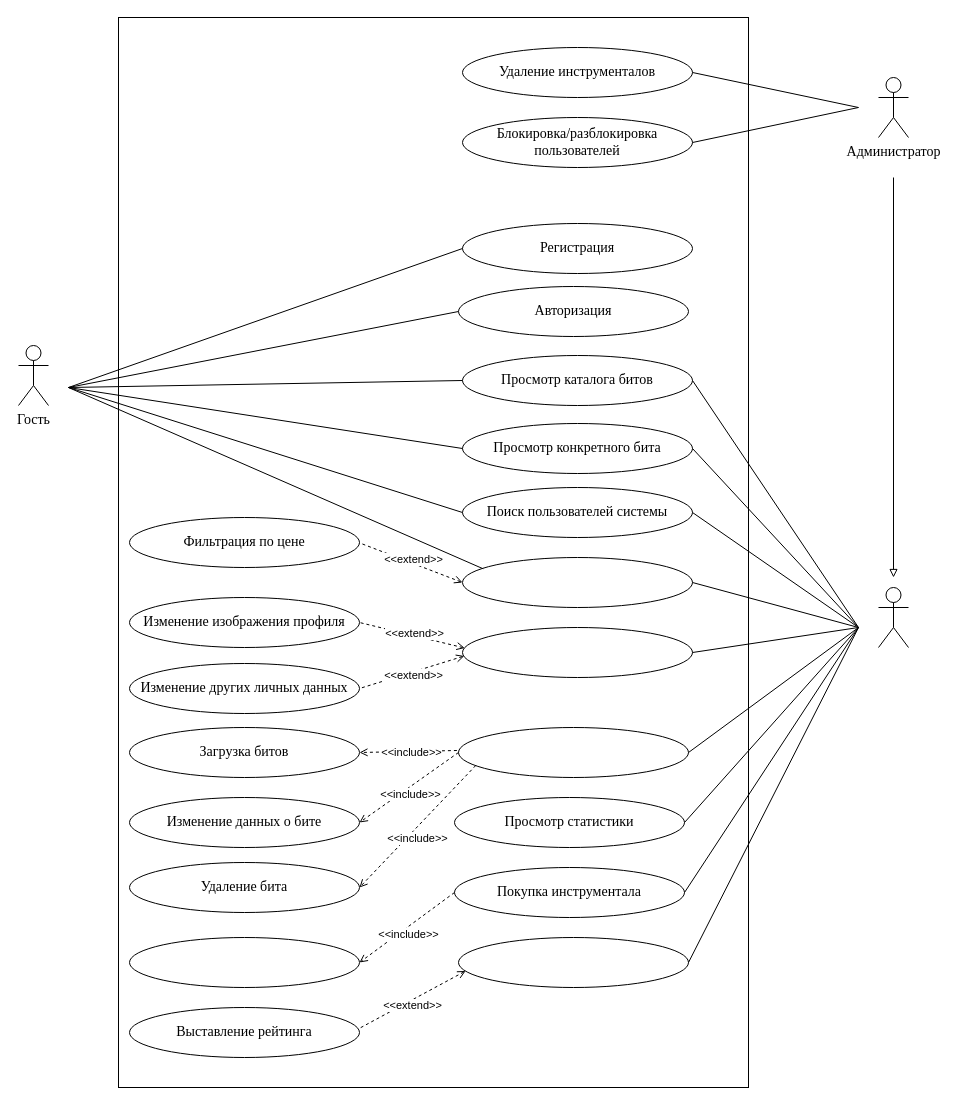
Image size: 958x1105. Some labels were removed from this diagram. The centre of each missing label's shape, as x and y in pixels:
Выбор лицензии: (x=244, y=962)
Написание комментария: (x=573, y=962)
Поиск битов: (x=577, y=582)
Продюсер: (x=893, y=617)
Управление контентом: (x=573, y=752)
Управление личными данными: (x=577, y=652)
